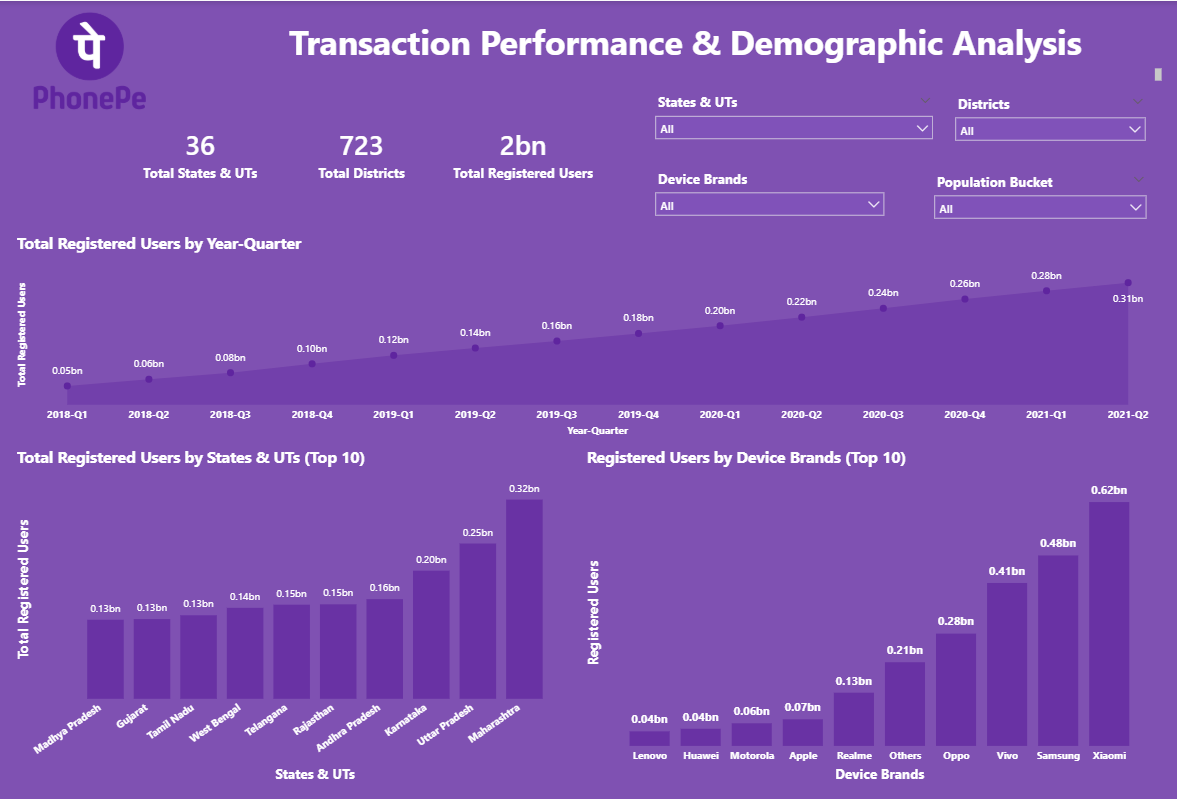

The dashboard page shown, as its layout file describes it:
{"tool":"powerbi","page":{"name":"Demographic Analysis","canvas":[1400,950],"ordinal":1},"visuals":[{"type":"cardVisual","fields":{"Data":["Count(state_transactions.state)","Count(district_transactions.district)","Sum(state_transactions.registered_users)"]},"box":[130,132,602,98],"z":0},{"type":"slicer","fields":{"Values":["district_transactions.district"]},"box":[1128,106,246,76],"z":1000},{"type":"slicer","fields":{"Values":["state_devicedata.brand"]},"box":[770,194,292,80],"z":2000},{"type":"areaChart","title":"Total Registered Users by Year-Quarter","fields":{"Category":["state_transactions.year_quarter"],"Y":["Sum(state_transactions.registered_users)"]},"box":[16,274,1370,248],"z":3000},{"type":"columnChart","title":"Registered Users by Device Brands (Top 10)","fields":{"Category":["state_devicedata.brand"],"Y":["Sum(state_devicedata.registered_users)"]},"box":[694,530,680,404],"z":4000},{"type":"columnChart","title":"Total Registered Users by States & UTs (Top 10)","fields":{"Category":["state_transactions.state"],"Y":["Sum(state_transactions.registered_users)"]},"box":[16,530,658,404],"z":5000},{"type":"image","box":[14.3,8.9,187.3,124.8],"z":6000},{"type":"slicer","fields":{"Values":["district_transactions.state"]},"box":[770,104,350,84],"z":7000},{"type":"slicer","fields":{"Values":["district_demographics.population_bucket"]},"box":[1102,198,272,76],"z":8000},{"type":"textbox","title":"Transaction Performance & Demographic Analysis","box":[244.3,21.4,1143.2,78.5],"z":11000}]}

Visuals, with their boxes in screenshot pixels (x1, y1, x2, y2), scaled from the page's 1400x950 canvas onto the 1177x799 screenshot:
cardVisual - Count(state_transactions.state) x Count(district_transactions.district): detection(109, 111, 615, 193)
slicer - district_transactions.district: detection(948, 89, 1155, 153)
slicer - state_devicedata.brand: detection(647, 163, 893, 230)
"Total Registered Users by Year-Quarter" areaChart: detection(13, 230, 1165, 439)
"Registered Users by Device Brands (Top 10)" columnChart: detection(583, 446, 1155, 786)
"Total Registered Users by States & UTs (Top 10)" columnChart: detection(13, 446, 567, 786)
image: detection(12, 7, 169, 112)
slicer - district_transactions.state: detection(647, 87, 942, 158)
slicer - district_demographics.population_bucket: detection(926, 167, 1155, 230)
"Transaction Performance & Demographic Analysis" textbox: detection(205, 18, 1166, 84)
